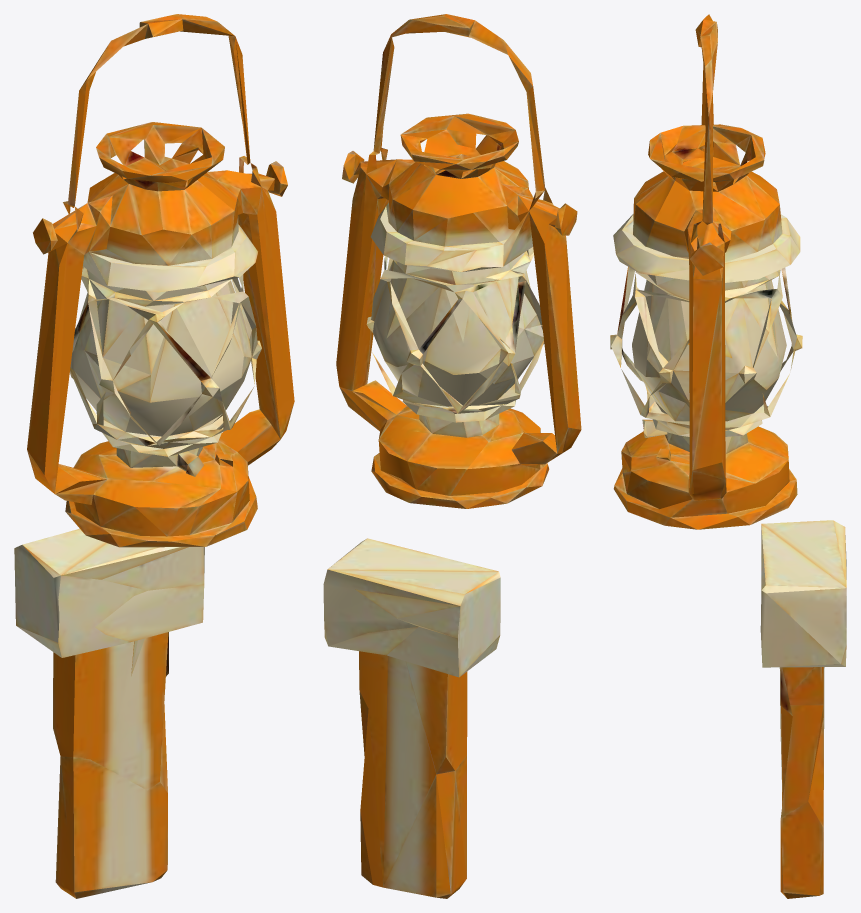
File: lantern.glb
The picture shows the model from 3 angles, left to right: view 1: azimuth 30°, elevation 25°; view 2: azimuth 150°, elevation 25°; view 3: azimuth 270°, elevation 25°; orthographic projection. The views are drawn at different scales.
Bounding box in the file's own units: 0.554 × 1.9 × 0.4762.
Materials: 1 (1 with a texture image).
